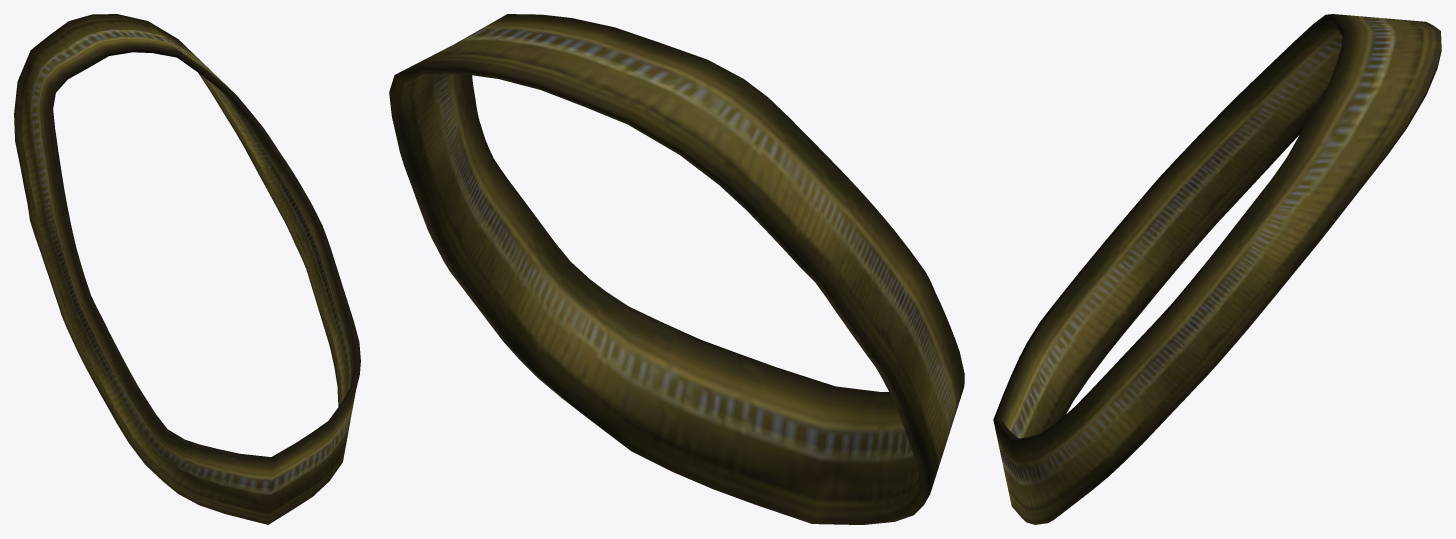
File: 13904_Straps_No_Weight_Paint.fbx
3 views of the same model, side by side, from view 1: azimuth 30°, elevation 25°; view 2: azimuth 150°, elevation 25°; view 3: azimuth 270°, elevation 25° (orthographic). The views are drawn at different scales.
Parts seen in each view (by area): view 1: 13904_strap_left; view 2: 13904_strap_left; view 3: 13904_strap_left.
Boxes of the visible parts, box(x1,y1,x2,y2) form: 13904_strap_left: box(14, 14, 360, 524); 13904_strap_left: box(389, 14, 964, 524); 13904_strap_left: box(993, 14, 1441, 524).
Size of the model in its own units: 1144 by 1693 by 1487.
1 material, 1 textured.
